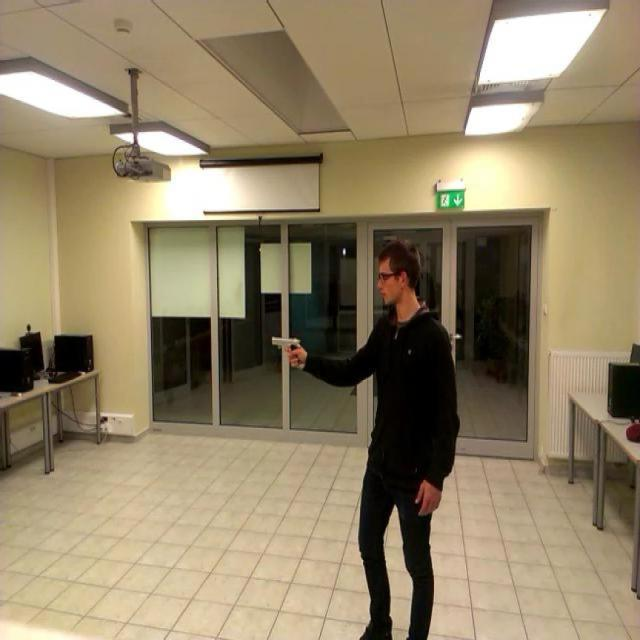pistol: (270, 336, 302, 364)
